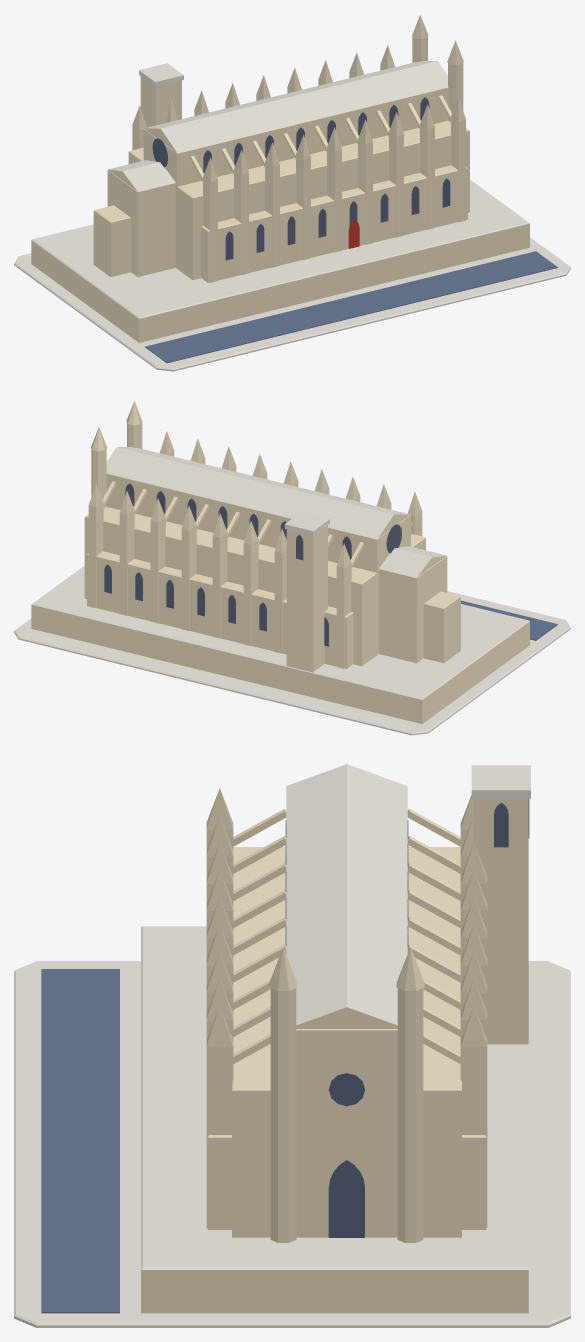
File: palma.glb
3 views of the same model, one above another, from view 1: azimuth 30°, elevation 25°; view 2: azimuth 150°, elevation 25°; view 3: azimuth 270°, elevation 25° (orthographic). The views are drawn at different scales.
Parts seen in each view (by area): view 1: model; view 2: model; view 3: model.
Part boxes in pixels (x1=…): model: x1=14, y1=14, x2=570, y2=371; model: x1=14, y1=401, x2=570, y2=735; model: x1=14, y1=764, x2=570, y2=1327.
Size of the model in its own units: 142 by 62 by 92.
